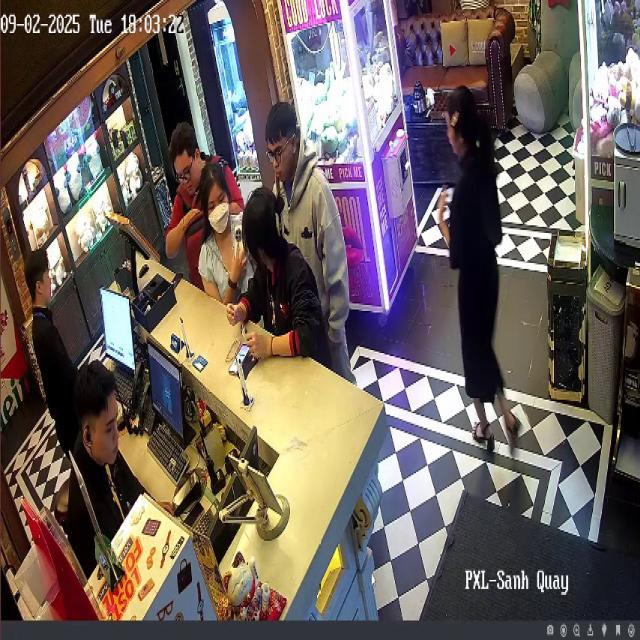khach: (258, 89, 362, 372), (155, 104, 243, 300), (243, 184, 323, 398), (194, 142, 243, 313)
nhan vien: (427, 87, 523, 459), (69, 342, 152, 593), (22, 242, 88, 461)
